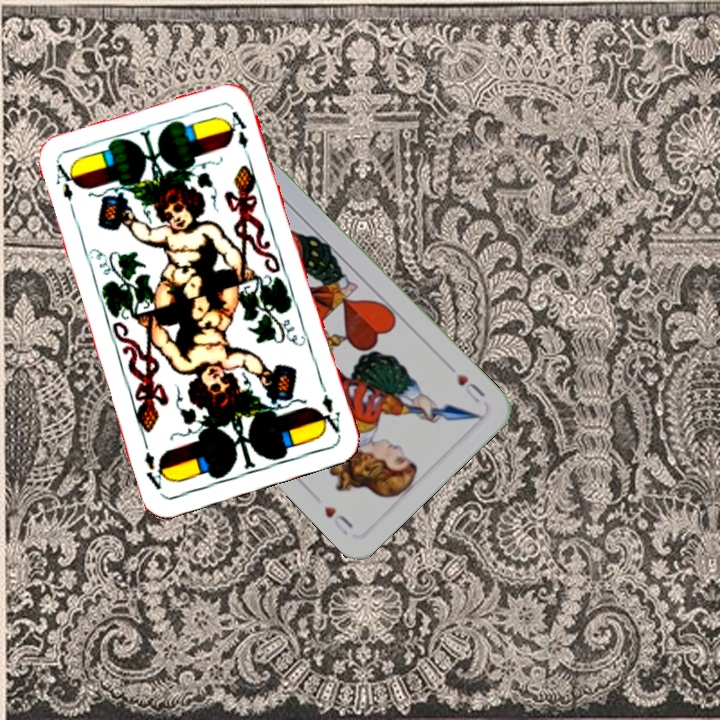EA: (314, 380, 343, 437), (52, 159, 76, 204)
HU: (452, 369, 488, 406)
